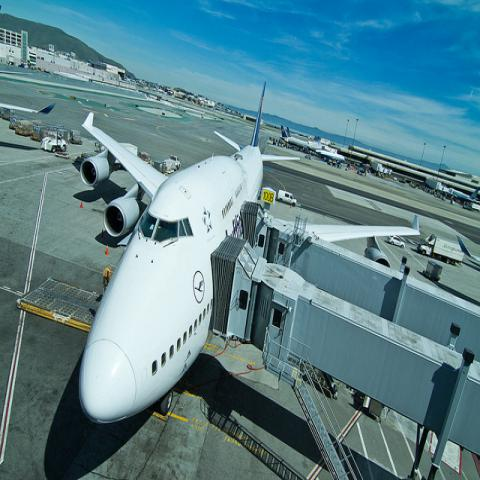car: (277, 188, 298, 207), (386, 235, 405, 248), (69, 129, 82, 143)
truck: (417, 234, 464, 267), (38, 131, 68, 152), (277, 189, 297, 206), (164, 155, 181, 171), (68, 128, 82, 144)
